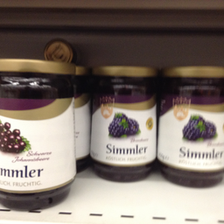jam: (1, 58, 76, 211), (89, 66, 159, 183), (158, 66, 224, 189)
